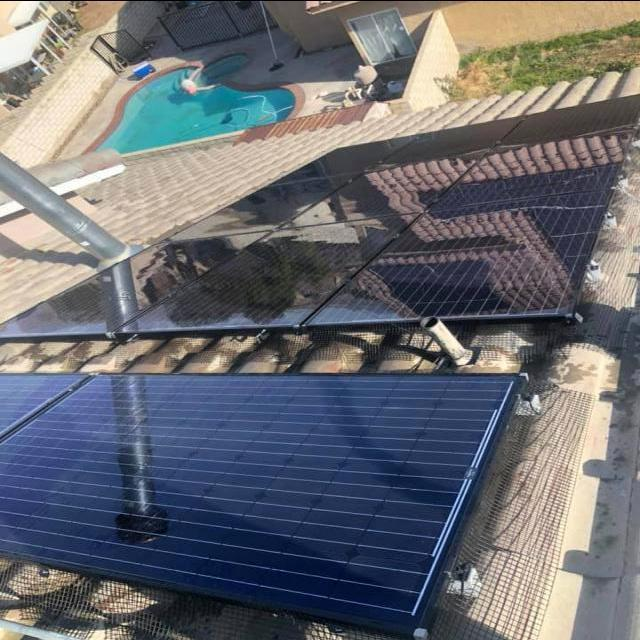no faulty: (5, 90, 640, 337), (0, 378, 510, 637)
